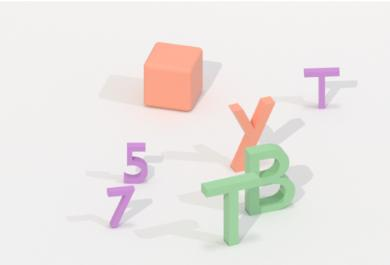0-KhoiVuong: (137, 38, 209, 115)
5: (120, 137, 152, 187)
7: (102, 182, 137, 231)
B: (244, 143, 297, 219)
T: (197, 170, 260, 250), (299, 61, 347, 113)
